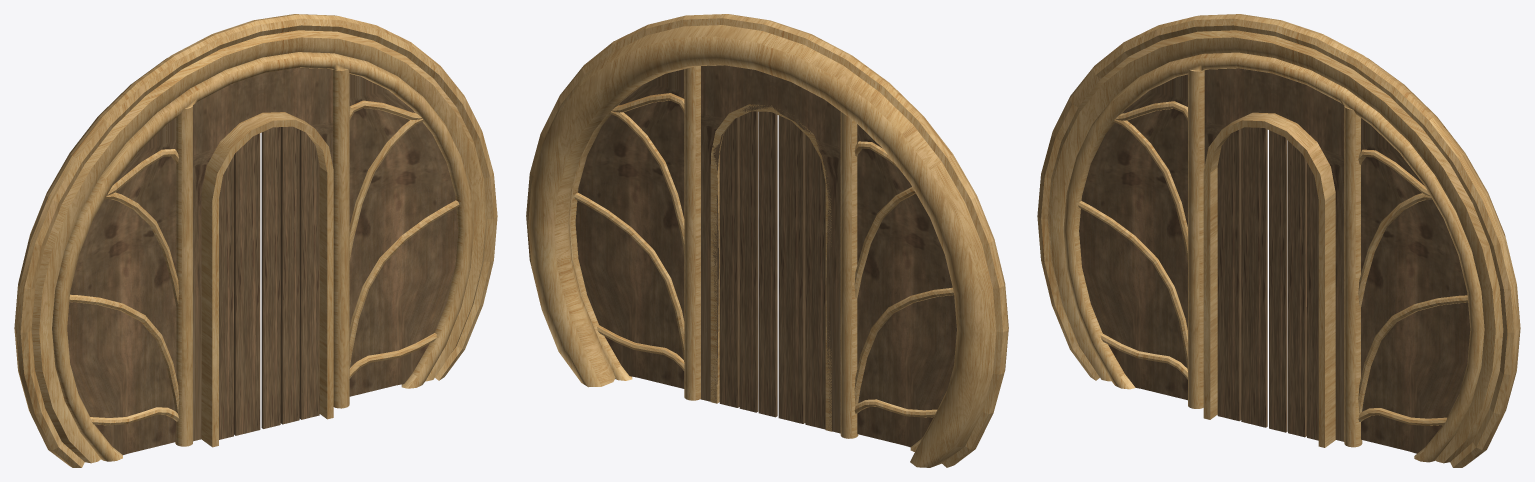
Rendered from SM_doorway_round.fbx.
3 renders of one model, left to right at view 1: azimuth 30°, elevation 25°; view 2: azimuth 150°, elevation 25°; view 3: azimuth 330°, elevation 25°, orthographic.
Visible parts, largest first — view 1: doorway_round; view 2: doorway_round; view 3: doorway_round.
Part boxes in pixels (bbox=[...]): doorway_round: bbox=[14, 14, 497, 467]; doorway_round: bbox=[526, 14, 1008, 467]; doorway_round: bbox=[1037, 14, 1520, 467].
Size of the model in its own units: 357 by 285 by 39.58.
